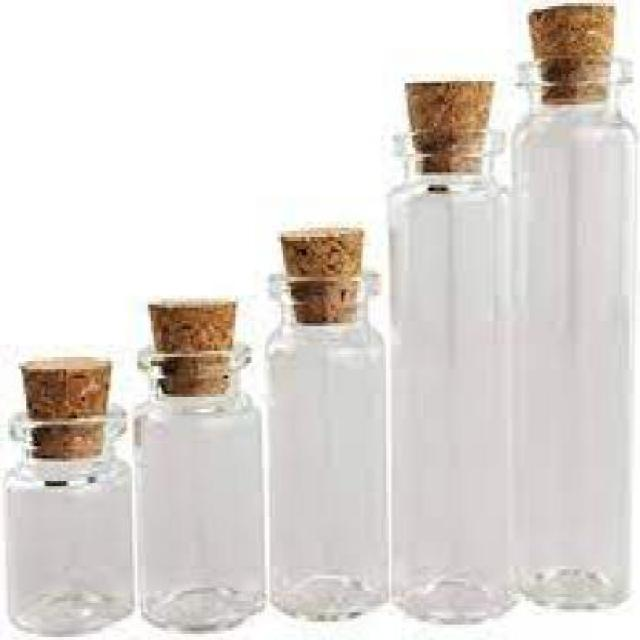kaca: (511, 56, 629, 606), (386, 127, 512, 616), (262, 268, 383, 615), (132, 344, 265, 630), (3, 409, 129, 631)
